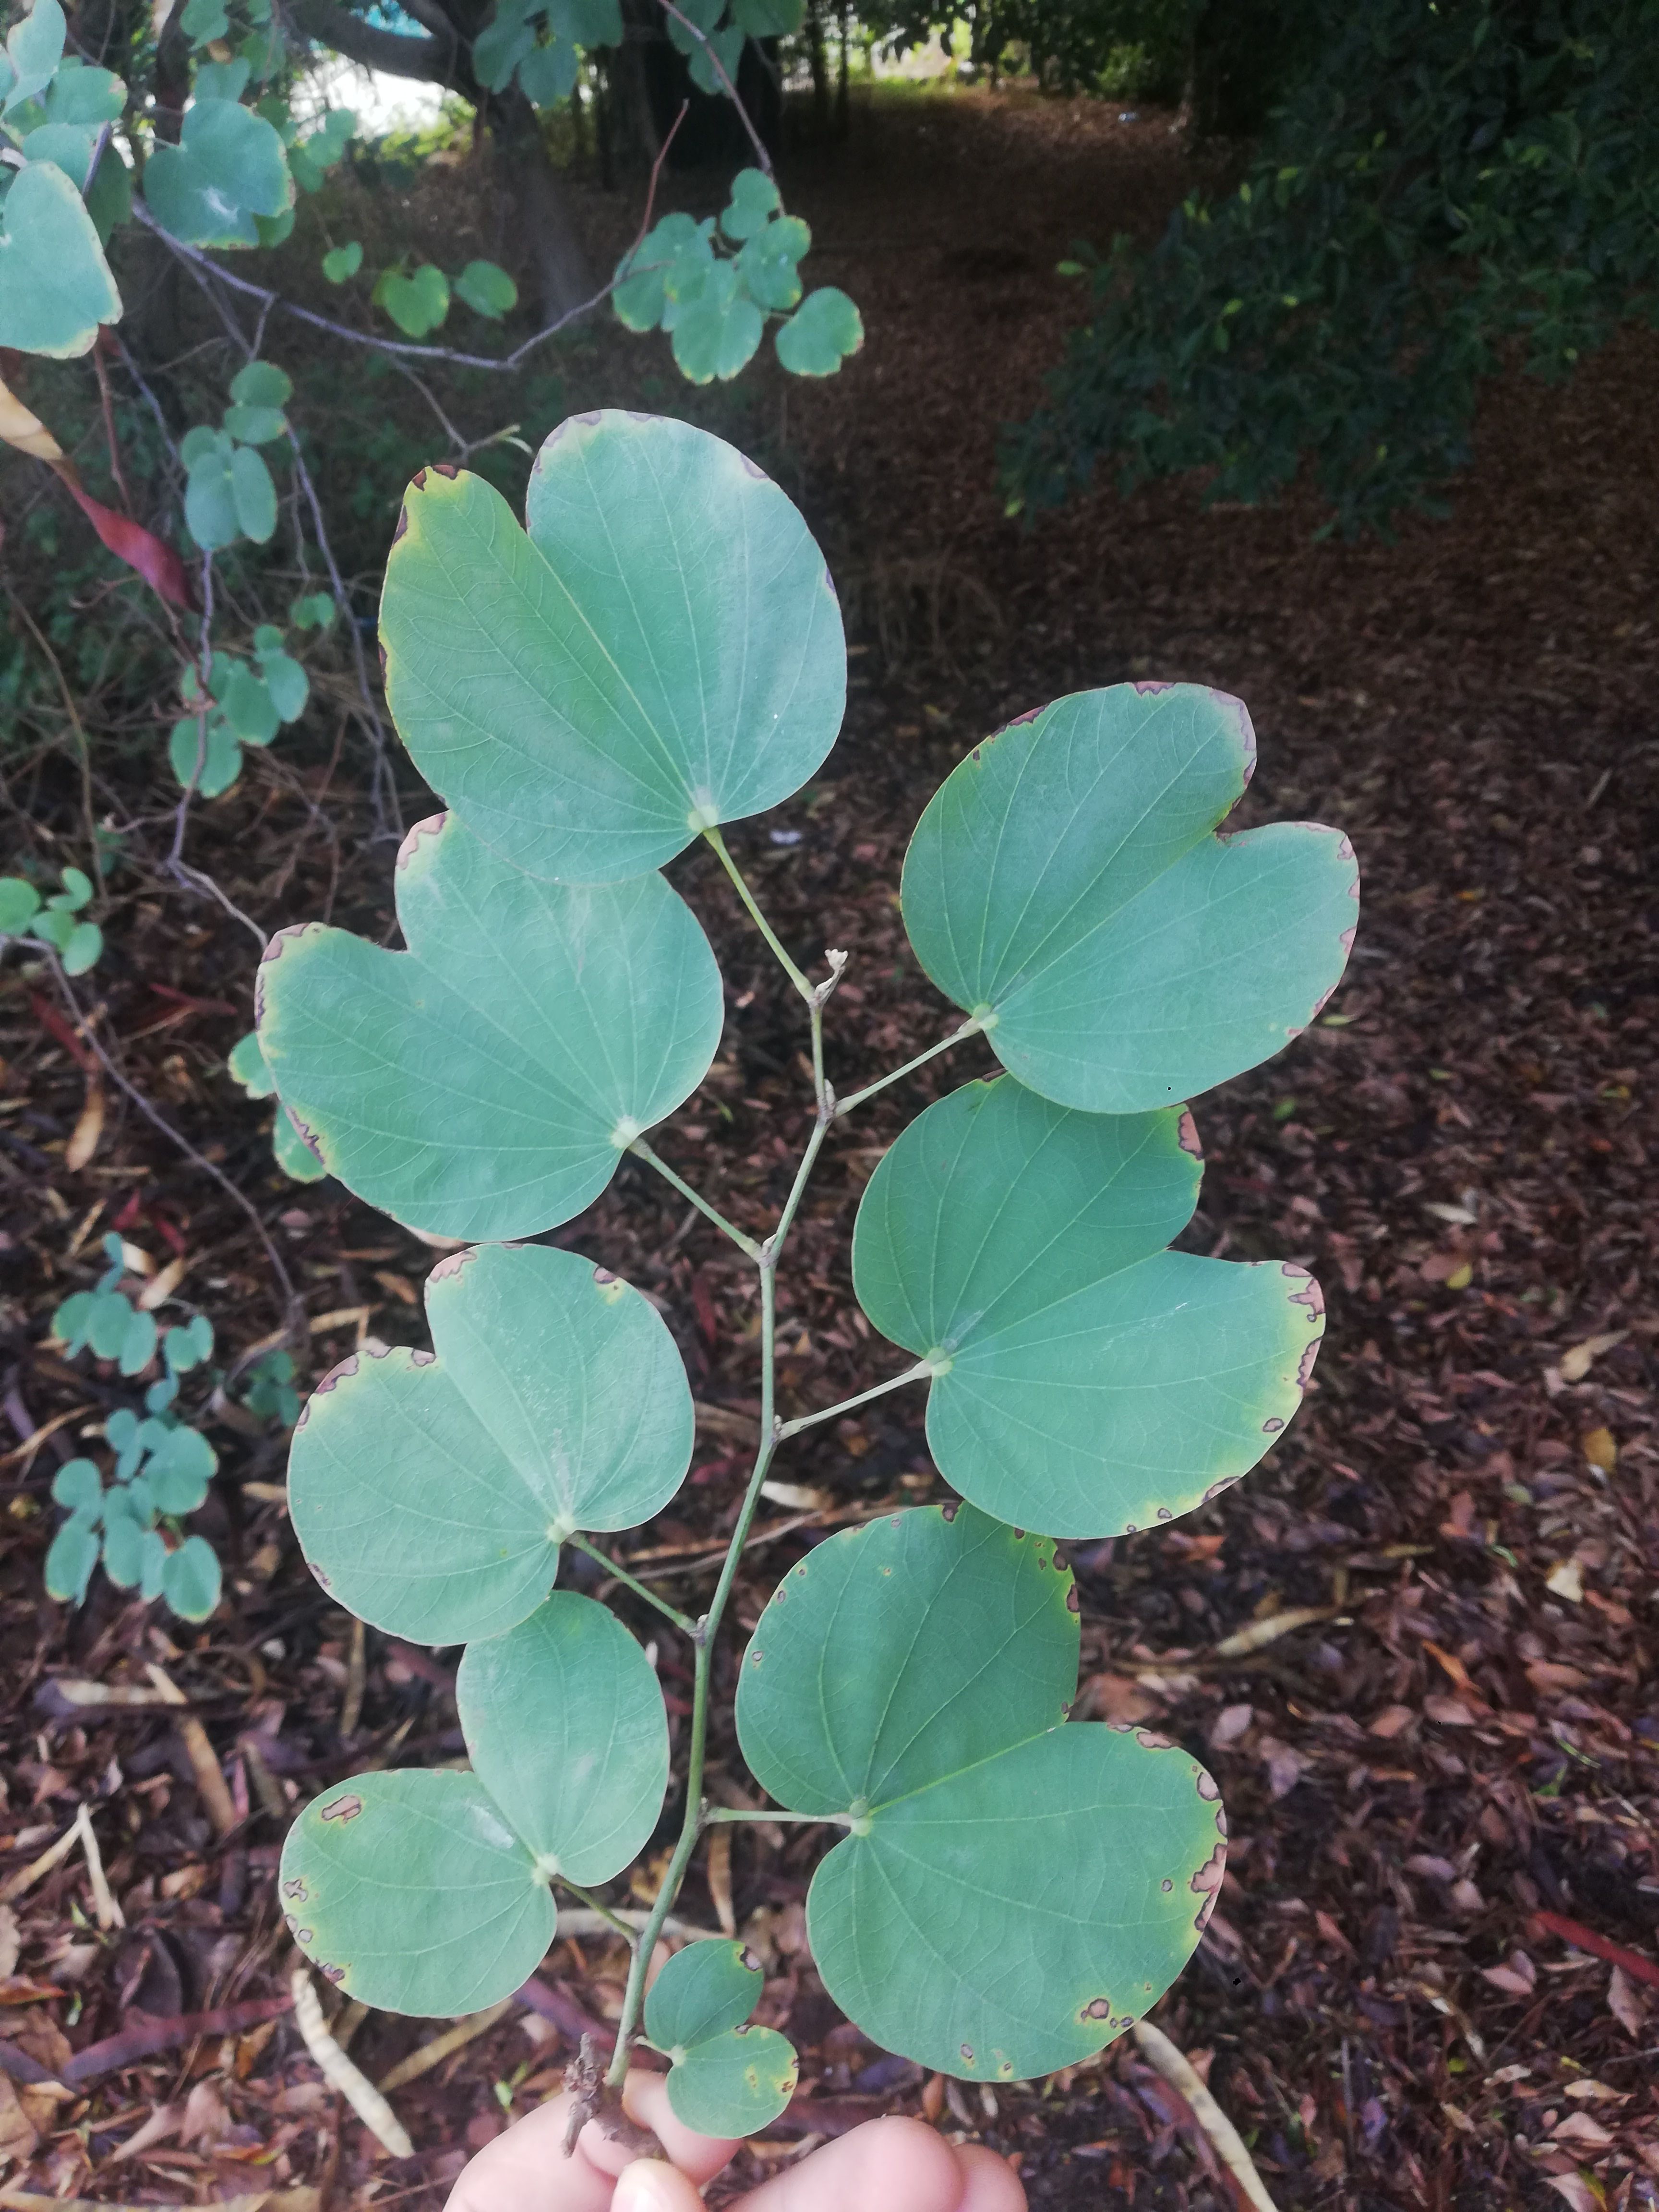nothealthy: (708, 1526, 1229, 2092), (253, 768, 734, 1254), (859, 1055, 1326, 1548), (373, 394, 836, 871), (880, 681, 1364, 1118), (263, 1200, 702, 1658), (268, 1581, 688, 2060)
